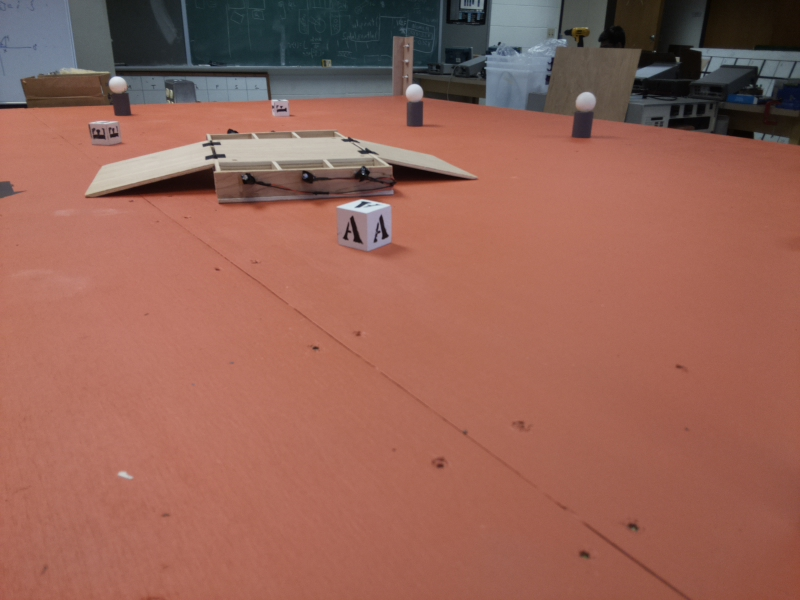blockA: (338, 199, 393, 256)
blockE: (91, 120, 122, 146)
blockF: (273, 100, 293, 118)
corner: (391, 36, 416, 83)
obstacle: (571, 91, 598, 140), (109, 74, 130, 116), (406, 84, 425, 127)
side: (217, 164, 391, 196)
slope: (86, 144, 207, 199), (393, 139, 473, 178)
start: (1, 175, 27, 201)
